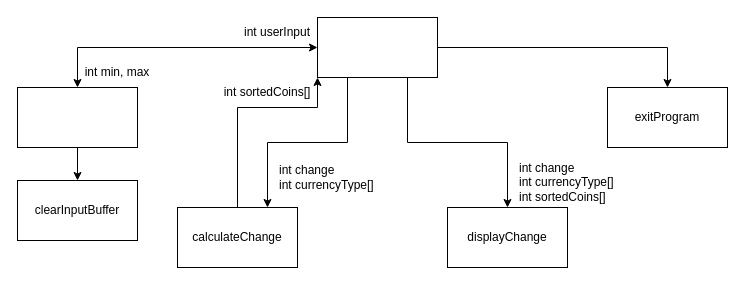
Image size: 745x285. Some labels were removed from this diagram. Each missing label, with the centre of its shape:
getUserInput: the point at 77,117
MAIN: the point at 377,47
